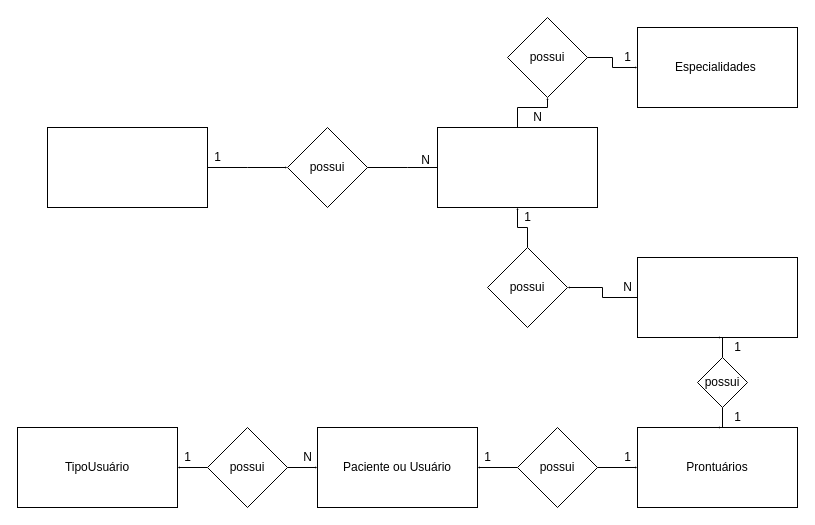
This 815x525 diagram has some shape labels left out. Each missing label, with the centre of its shape:
"Clínica" belongs at (x=127, y=167).
"Consultas" belongs at (x=717, y=297).
"Médicos" belongs at (x=517, y=167).
